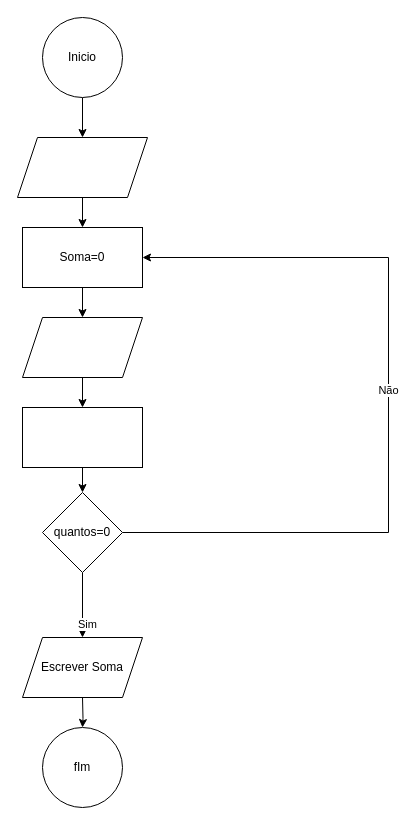
Some shapes in this 415 by 825 pixel diagram are drawn without their labels. The shapes that lost their labels are listed below. From the top down, each one's centre as x and y in pixels, then its label:
[82,167]: Ler quantos
[82,347]: Ler N
[82,437]: Soma=Soma+N quantos=quantos-1
